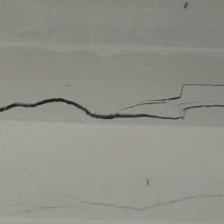High: (1, 65, 224, 135)
